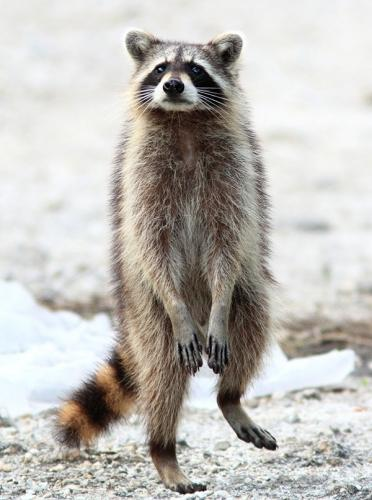raccoon: (60, 28, 285, 500)
